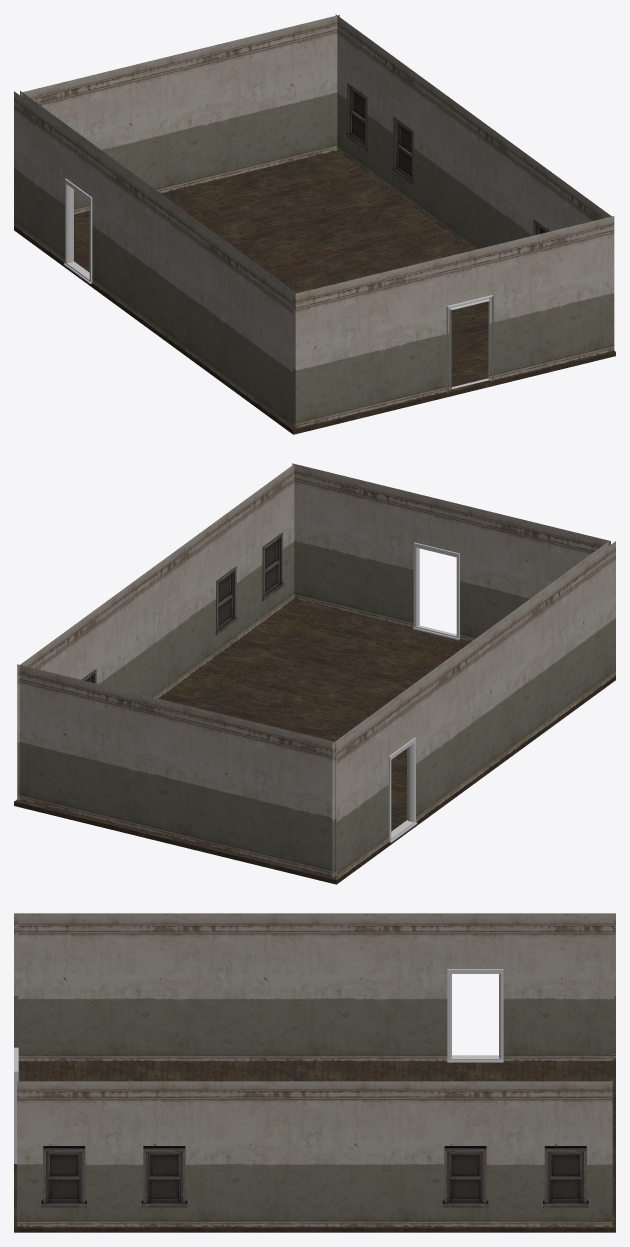
File: room_windows_15m_x_10m_door_right.fbx
3 renders of one model, top to bottom at view 1: azimuth 30°, elevation 25°; view 2: azimuth 150°, elevation 25°; view 3: azimuth 270°, elevation 25°, orthographic. The views are drawn at different scales.
Visible parts, largest first — view 1: room_windows_15m_x_10m_door_right; view 2: room_windows_15m_x_10m_door_right; view 3: room_windows_15m_x_10m_door_right.
Boxes of the visible parts, x1,y1,x2,y2 form: room_windows_15m_x_10m_door_right: (14,14,615,434); room_windows_15m_x_10m_door_right: (14,463,615,884); room_windows_15m_x_10m_door_right: (14,913,615,1232).
Size of the model in its own units: 1023 by 412 by 1500.
